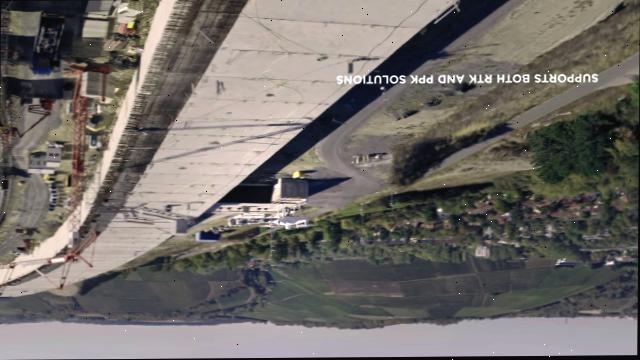drone: (256, 203, 317, 230)
